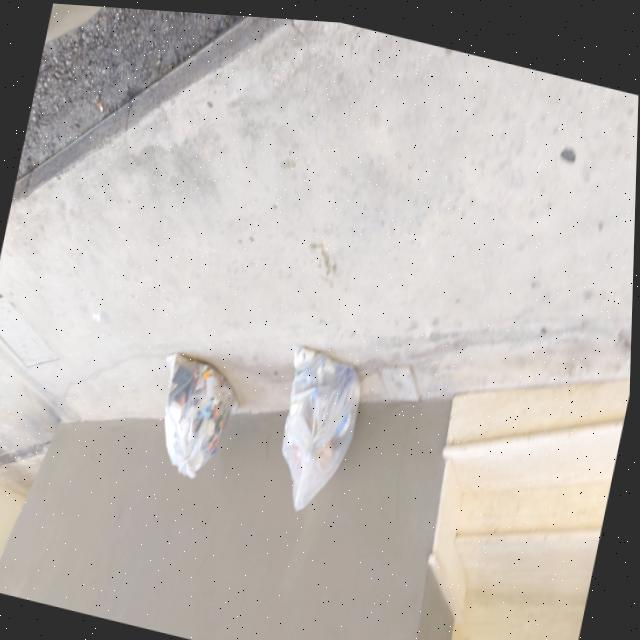Recycled Waste -Grey or Green Bag-: (261, 327, 375, 516), (146, 340, 252, 492)
